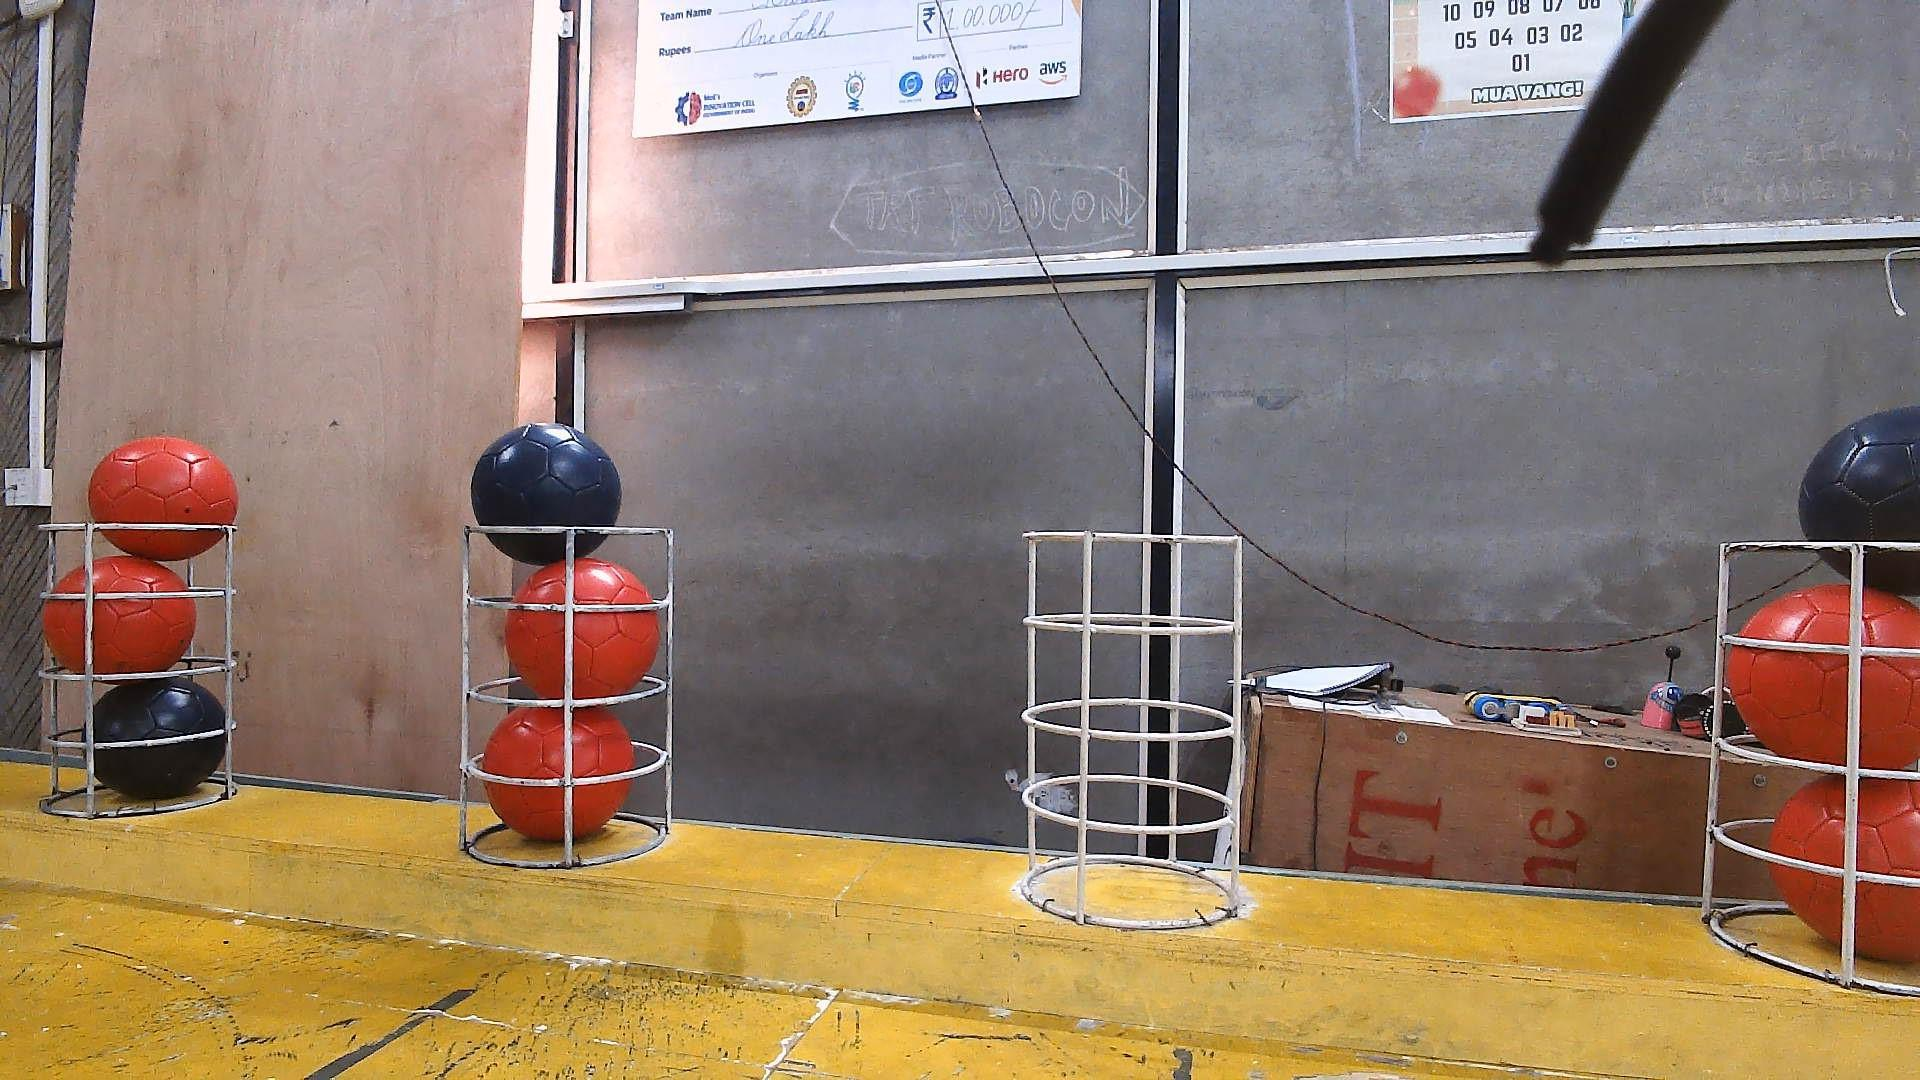dhoka: (1796, 405, 1920, 596), (468, 423, 622, 566), (94, 679, 228, 799)
laale: (1725, 582, 1920, 773), (1770, 777, 1920, 964), (502, 559, 659, 702), (480, 705, 637, 841), (86, 435, 240, 563), (41, 555, 195, 675)
